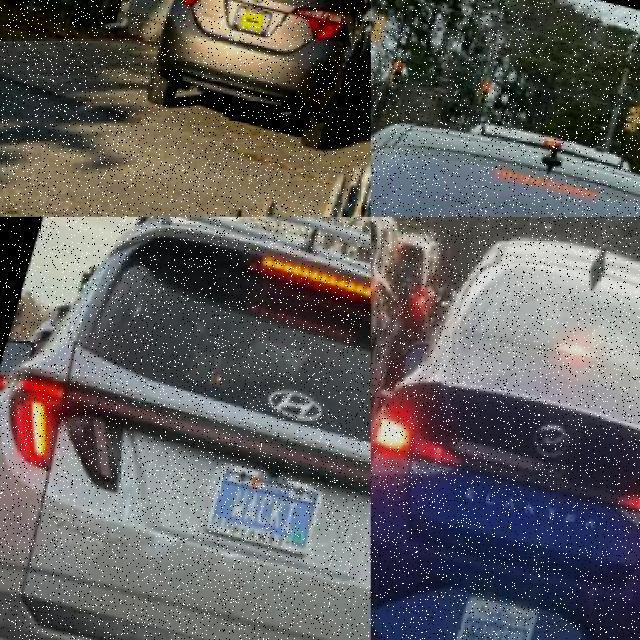LicensePlate: (208, 460, 327, 556), (460, 594, 544, 639), (237, 4, 275, 34)
